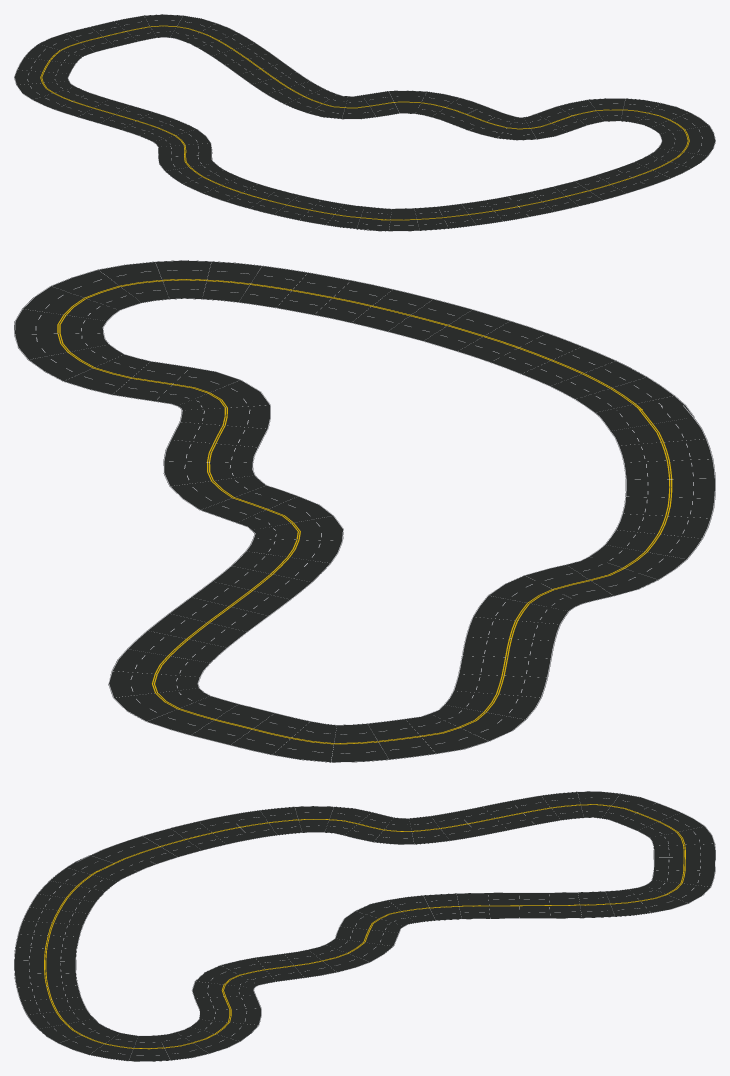
File: track01 [352985].fbx
3 views of the same model, one above another, from view 1: azimuth 30°, elevation 25°; view 2: azimuth 150°, elevation 25°; view 3: azimuth 270°, elevation 25° (orthographic). The views are drawn at different scales.
Visible parts, largest first — view 1: Plane.001; view 2: Plane.001; view 3: Plane.001.
Boxes of the visible parts, <box> form: Plane.001: <box>14,14,715,231</box>; Plane.001: <box>14,260,715,762</box>; Plane.001: <box>14,791,715,1061</box>.
Bounding box in the file's own units: 8249 × 17.12 × 9046.
